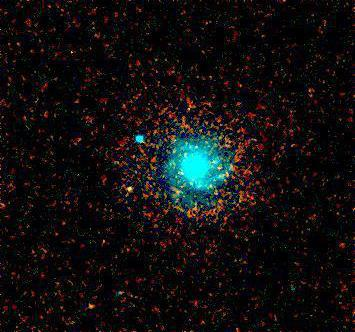star: (77, 289, 107, 319)
